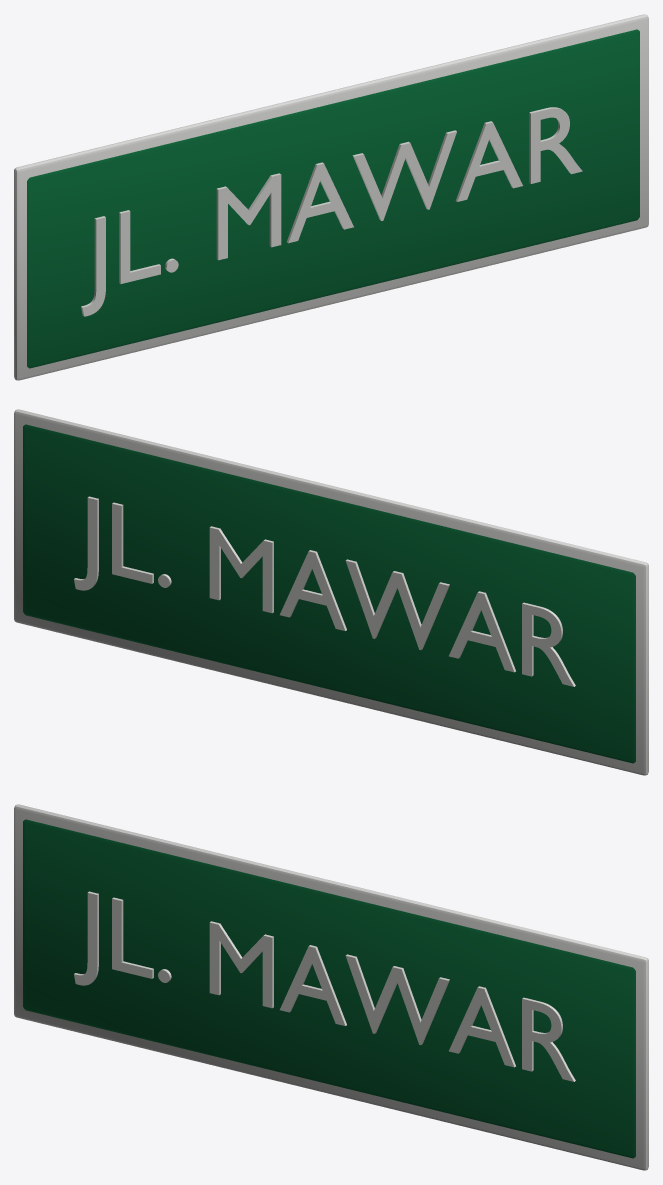
File: StreetName_mawar.fbx
3 renders of one model, top to bottom at view 1: azimuth 30°, elevation 25°; view 2: azimuth 150°, elevation 25°; view 3: azimuth 330°, elevation 25°, orthographic.
Visible parts, largest first — view 1: StreetName_mawar_Mesh; view 2: StreetName_mawar_Mesh; view 3: StreetName_mawar_Mesh.
Part boxes in pixels (<box>): StreetName_mawar_Mesh: <box>14,14,648,380</box>; StreetName_mawar_Mesh: <box>14,409,648,775</box>; StreetName_mawar_Mesh: <box>14,804,648,1170</box>.
Bounding box in the file's own units: 1.09 × 0.35 × 0.026.
